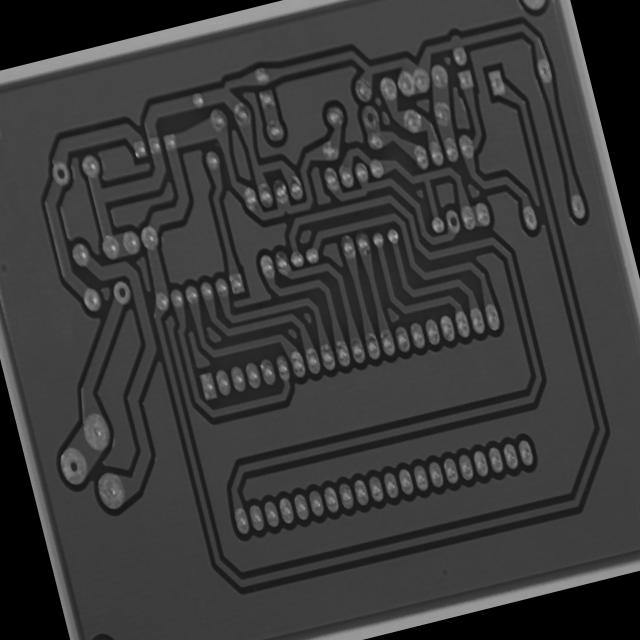missing_hole: (54, 444, 92, 490), (356, 99, 384, 135), (46, 156, 74, 190), (108, 274, 134, 308), (442, 205, 466, 237)
